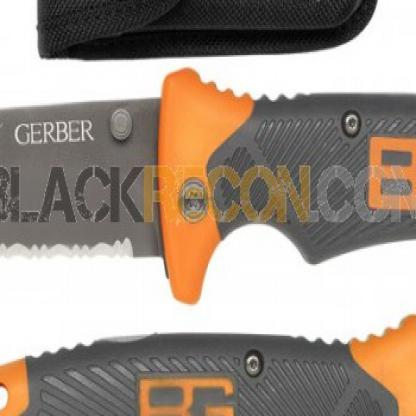knife: (0, 58, 225, 308)
